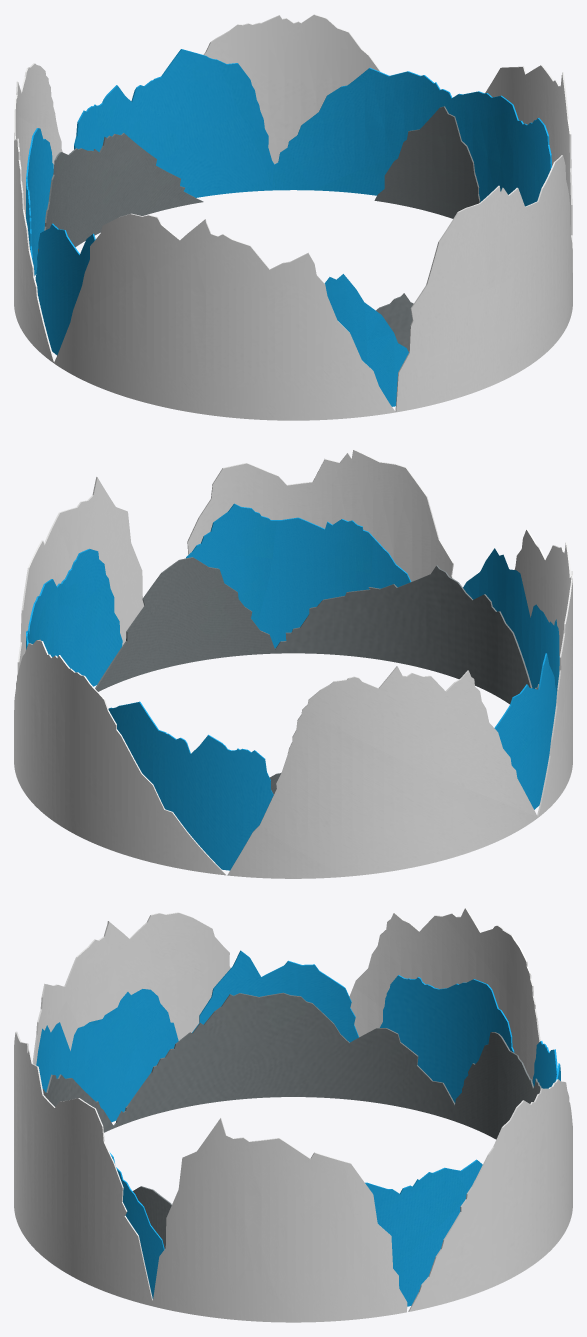
The model's file is MountainsFinal.fbx.
3 renders of one model, top to bottom at view 1: azimuth 30°, elevation 25°; view 2: azimuth 150°, elevation 25°; view 3: azimuth 270°, elevation 25°, orthographic.
Visible parts, largest first — view 1: Mountain_05, Mountain_01, Mountain_06, Mountain_08, Mountain_03, Mountain_14, Mountain_15, Mountain_04, Mountain_02, Mountain_10, Mountain_11, Mountain_09 (+1 smaller); view 2: Mountain_04, Mountain_03, Mountain_13, Mountain_07, Mountain_01, Mountain_08, Mountain_16, Mountain_02, Mountain_06, Mountain_05, Mountain_11, Mountain_10; view 3: Mountain_02, Mountain_12, Mountain_01, Mountain_03, Mountain_05, Mountain_04, Mountain_11, Mountain_09, Mountain_06, Mountain_10, Mountain_14, Mountain_07 (+3 smaller).
Boxes of the visible parts, box(x1,y1,x2,y2) form: Mountain_05: box(54, 213, 395, 420); Mountain_01: box(395, 155, 572, 412); Mountain_06: box(244, 68, 551, 206); Mountain_08: box(74, 49, 289, 197); Mountain_03: box(203, 14, 380, 164); Mountain_14: box(44, 133, 203, 247); Mountain_15: box(374, 106, 480, 218); Mountain_04: box(14, 63, 62, 362); Mountain_02: box(485, 65, 572, 272); Mountain_10: box(35, 223, 95, 355); Mountain_11: box(324, 274, 408, 406); Mountain_09: box(26, 128, 53, 275); Mountain_04: box(227, 666, 537, 878); Mountain_03: box(14, 640, 226, 875); Mountain_13: box(273, 565, 532, 704); Mountain_07: box(186, 503, 411, 648); Mountain_01: box(187, 449, 453, 581); Mountain_08: box(108, 701, 273, 870); Mountain_16: box(95, 557, 274, 691); Mountain_02: box(17, 477, 144, 673); Mountain_06: box(26, 548, 122, 686); Mountain_05: box(514, 529, 572, 817); Mountain_11: box(463, 548, 559, 692); Mountain_10: box(494, 653, 556, 809); Mountain_02: box(150, 1118, 407, 1322); Mountain_12: box(112, 992, 475, 1129); Mountain_01: box(14, 1031, 153, 1306); Mountain_03: box(408, 1079, 572, 1311); Mountain_05: box(32, 912, 230, 1064); Mountain_04: box(349, 907, 540, 1081); Mountain_11: box(36, 989, 178, 1122); Mountain_09: box(380, 975, 514, 1103); Mountain_06: box(365, 1159, 482, 1306); Mountain_10: box(192, 950, 358, 1042); Mountain_14: box(455, 1032, 541, 1139); Mountain_07: box(110, 1153, 164, 1298).
Size of the model in its own units: 13712 by 5523 by 13712.
Materials: 16 (16 with a texture image).
